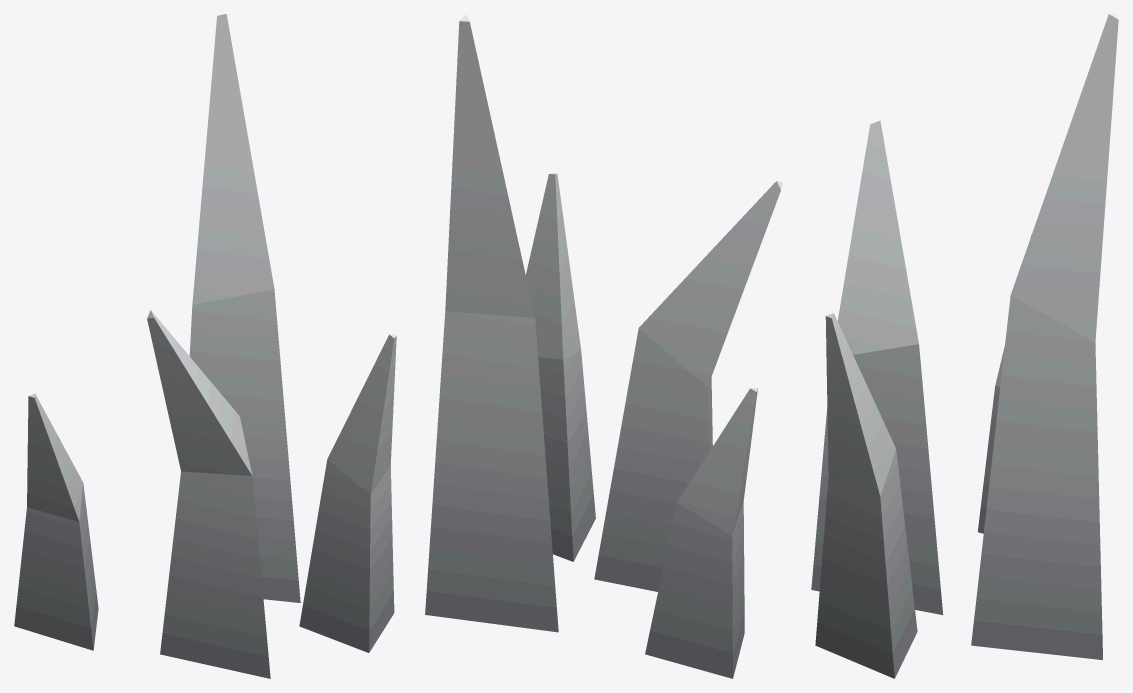
The model's file is SM_Grass_Snow.fbx.
3 views of the same model, side by side, from view 1: azimuth 30°, elevation 25°; view 2: azimuth 150°, elevation 25°; view 3: azimuth 270°, elevation 25° (orthographic). The views are drawn at different scales.
Visible parts, largest first — view 1: Grass_Snow; view 2: Grass_Snow; view 3: Grass_Snow.
Boxes of the visible parts, x1,y1,x2,y2 form: Grass_Snow: (14,14,396,678); Grass_Snow: (425,14,782,678); Grass_Snow: (811,14,1118,678).
Bounding box in the file's own units: 1.52 × 2.63 × 1.18.
